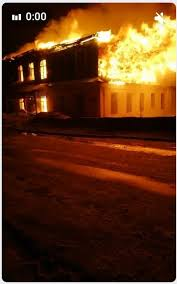fire: (35, 16, 172, 87)
